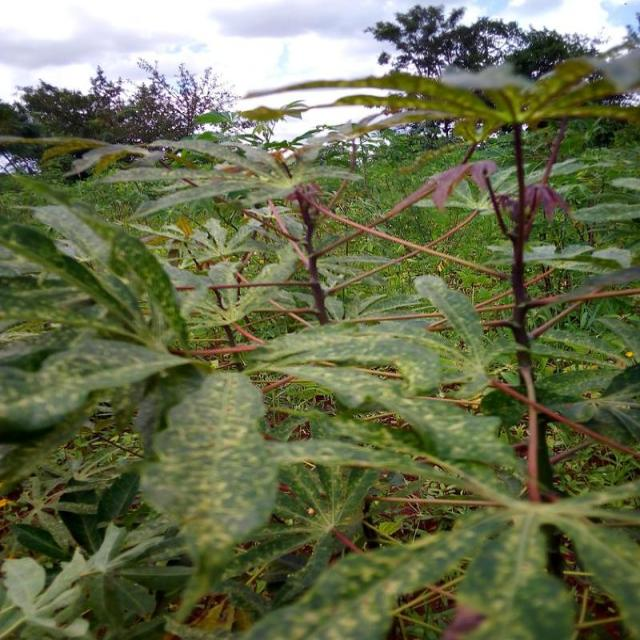cassava leaf: (2, 51, 640, 638), (138, 368, 281, 571)
